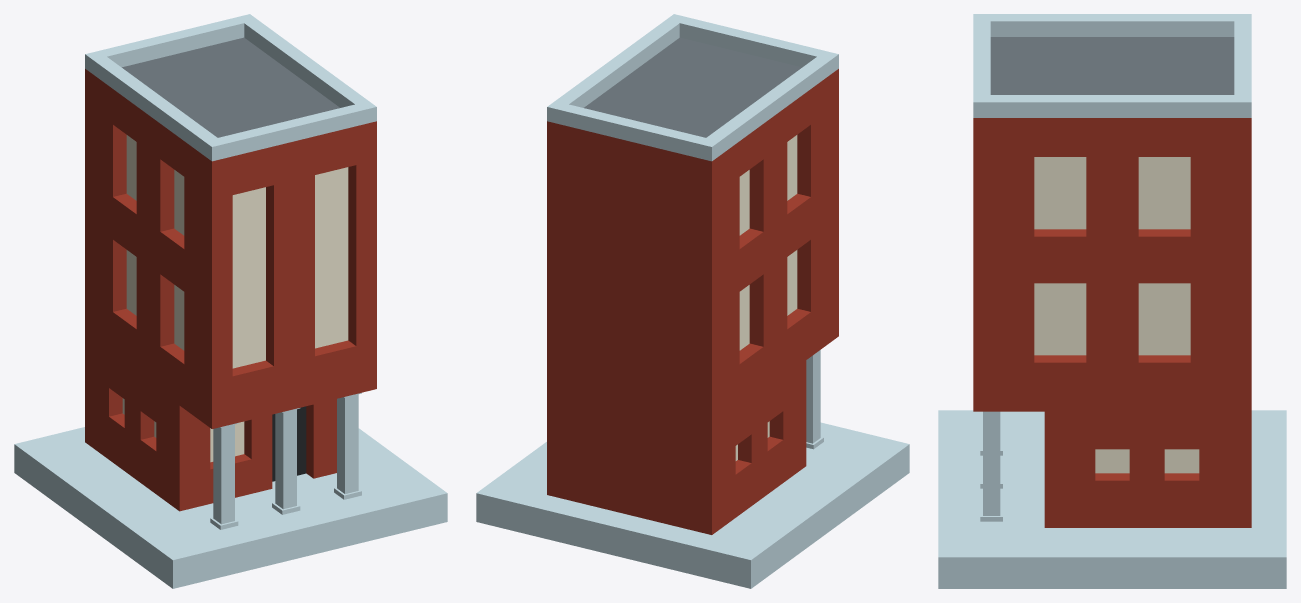
The model's file is Building_9_Base (Red).obj.
The picture shows the model from 3 angles, left to right: view 1: azimuth 30°, elevation 25°; view 2: azimuth 150°, elevation 25°; view 3: azimuth 270°, elevation 25°; orthographic projection. The views are drawn at different scales.
Parts seen in each view (by area): view 1: Building_9_Base_(Red); view 2: Building_9_Base_(Red); view 3: Building_9_Base_(Red).
Part boxes in pixels (bbox=[...]): Building_9_Base_(Red): bbox=[14, 14, 447, 588]; Building_9_Base_(Red): bbox=[476, 14, 909, 588]; Building_9_Base_(Red): bbox=[938, 14, 1286, 588].
Size of the model in its own units: 2 by 2.9 by 2.
